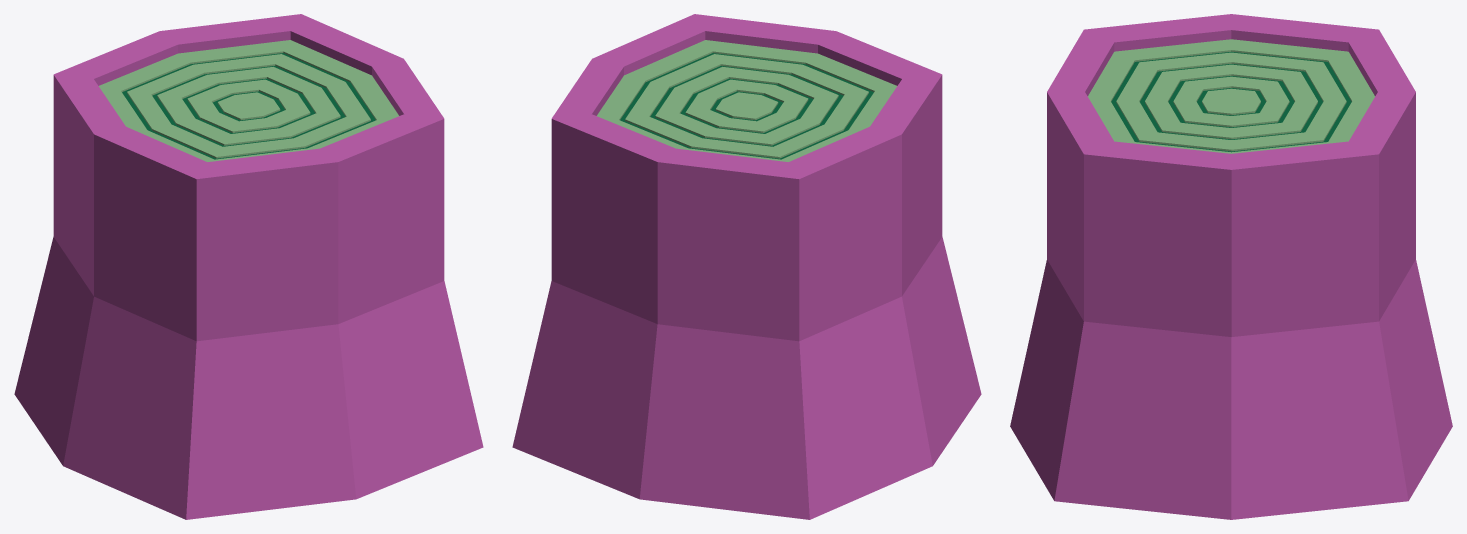
File: Stump.glb
3 renders of one model, left to right at view 1: azimuth 30°, elevation 25°; view 2: azimuth 150°, elevation 25°; view 3: azimuth 270°, elevation 25°, orthographic. The views are drawn at different scales.
Parts seen in each view (by area): view 1: Stump; view 2: Stump; view 3: Stump.
Part boxes in pixels (bbox=[...]): Stump: bbox=[14, 14, 483, 519]; Stump: bbox=[512, 14, 981, 519]; Stump: bbox=[1010, 14, 1452, 519].
Size of the model in its own units: 2.4 by 2 by 2.4.
